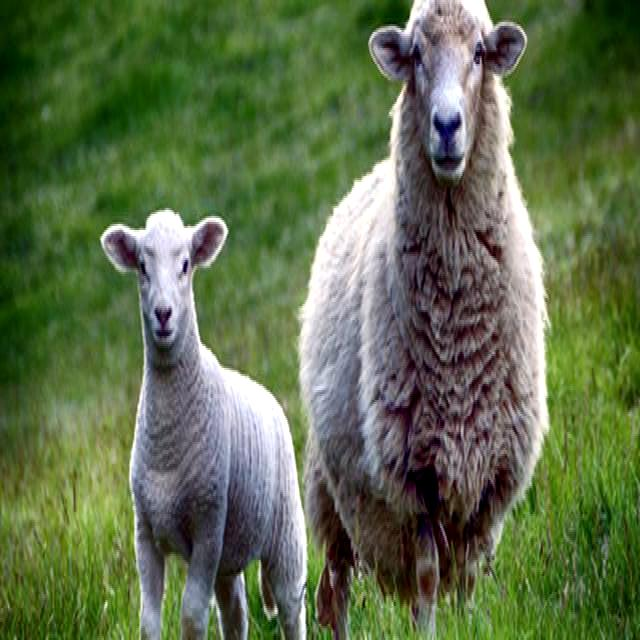sheep: (298, 0, 541, 640), (101, 217, 308, 640)
